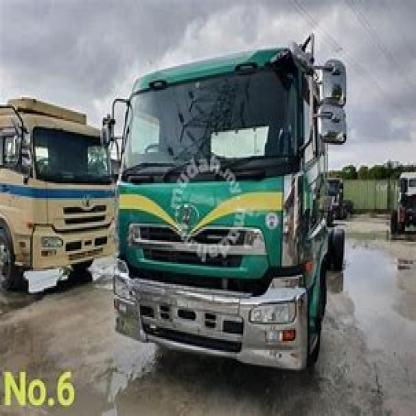dump_truck: (111, 29, 353, 392), (0, 81, 119, 308)
